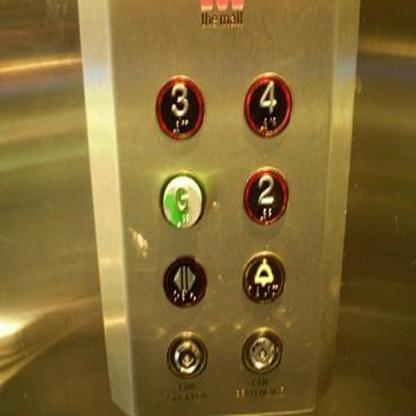2: (240, 162, 290, 228)
3: (152, 70, 205, 141)
4: (240, 68, 293, 140)
G: (157, 166, 208, 232)
alarm: (238, 247, 286, 307)
keyhole: (164, 328, 208, 379), (239, 324, 283, 375)
open: (160, 252, 208, 310)
